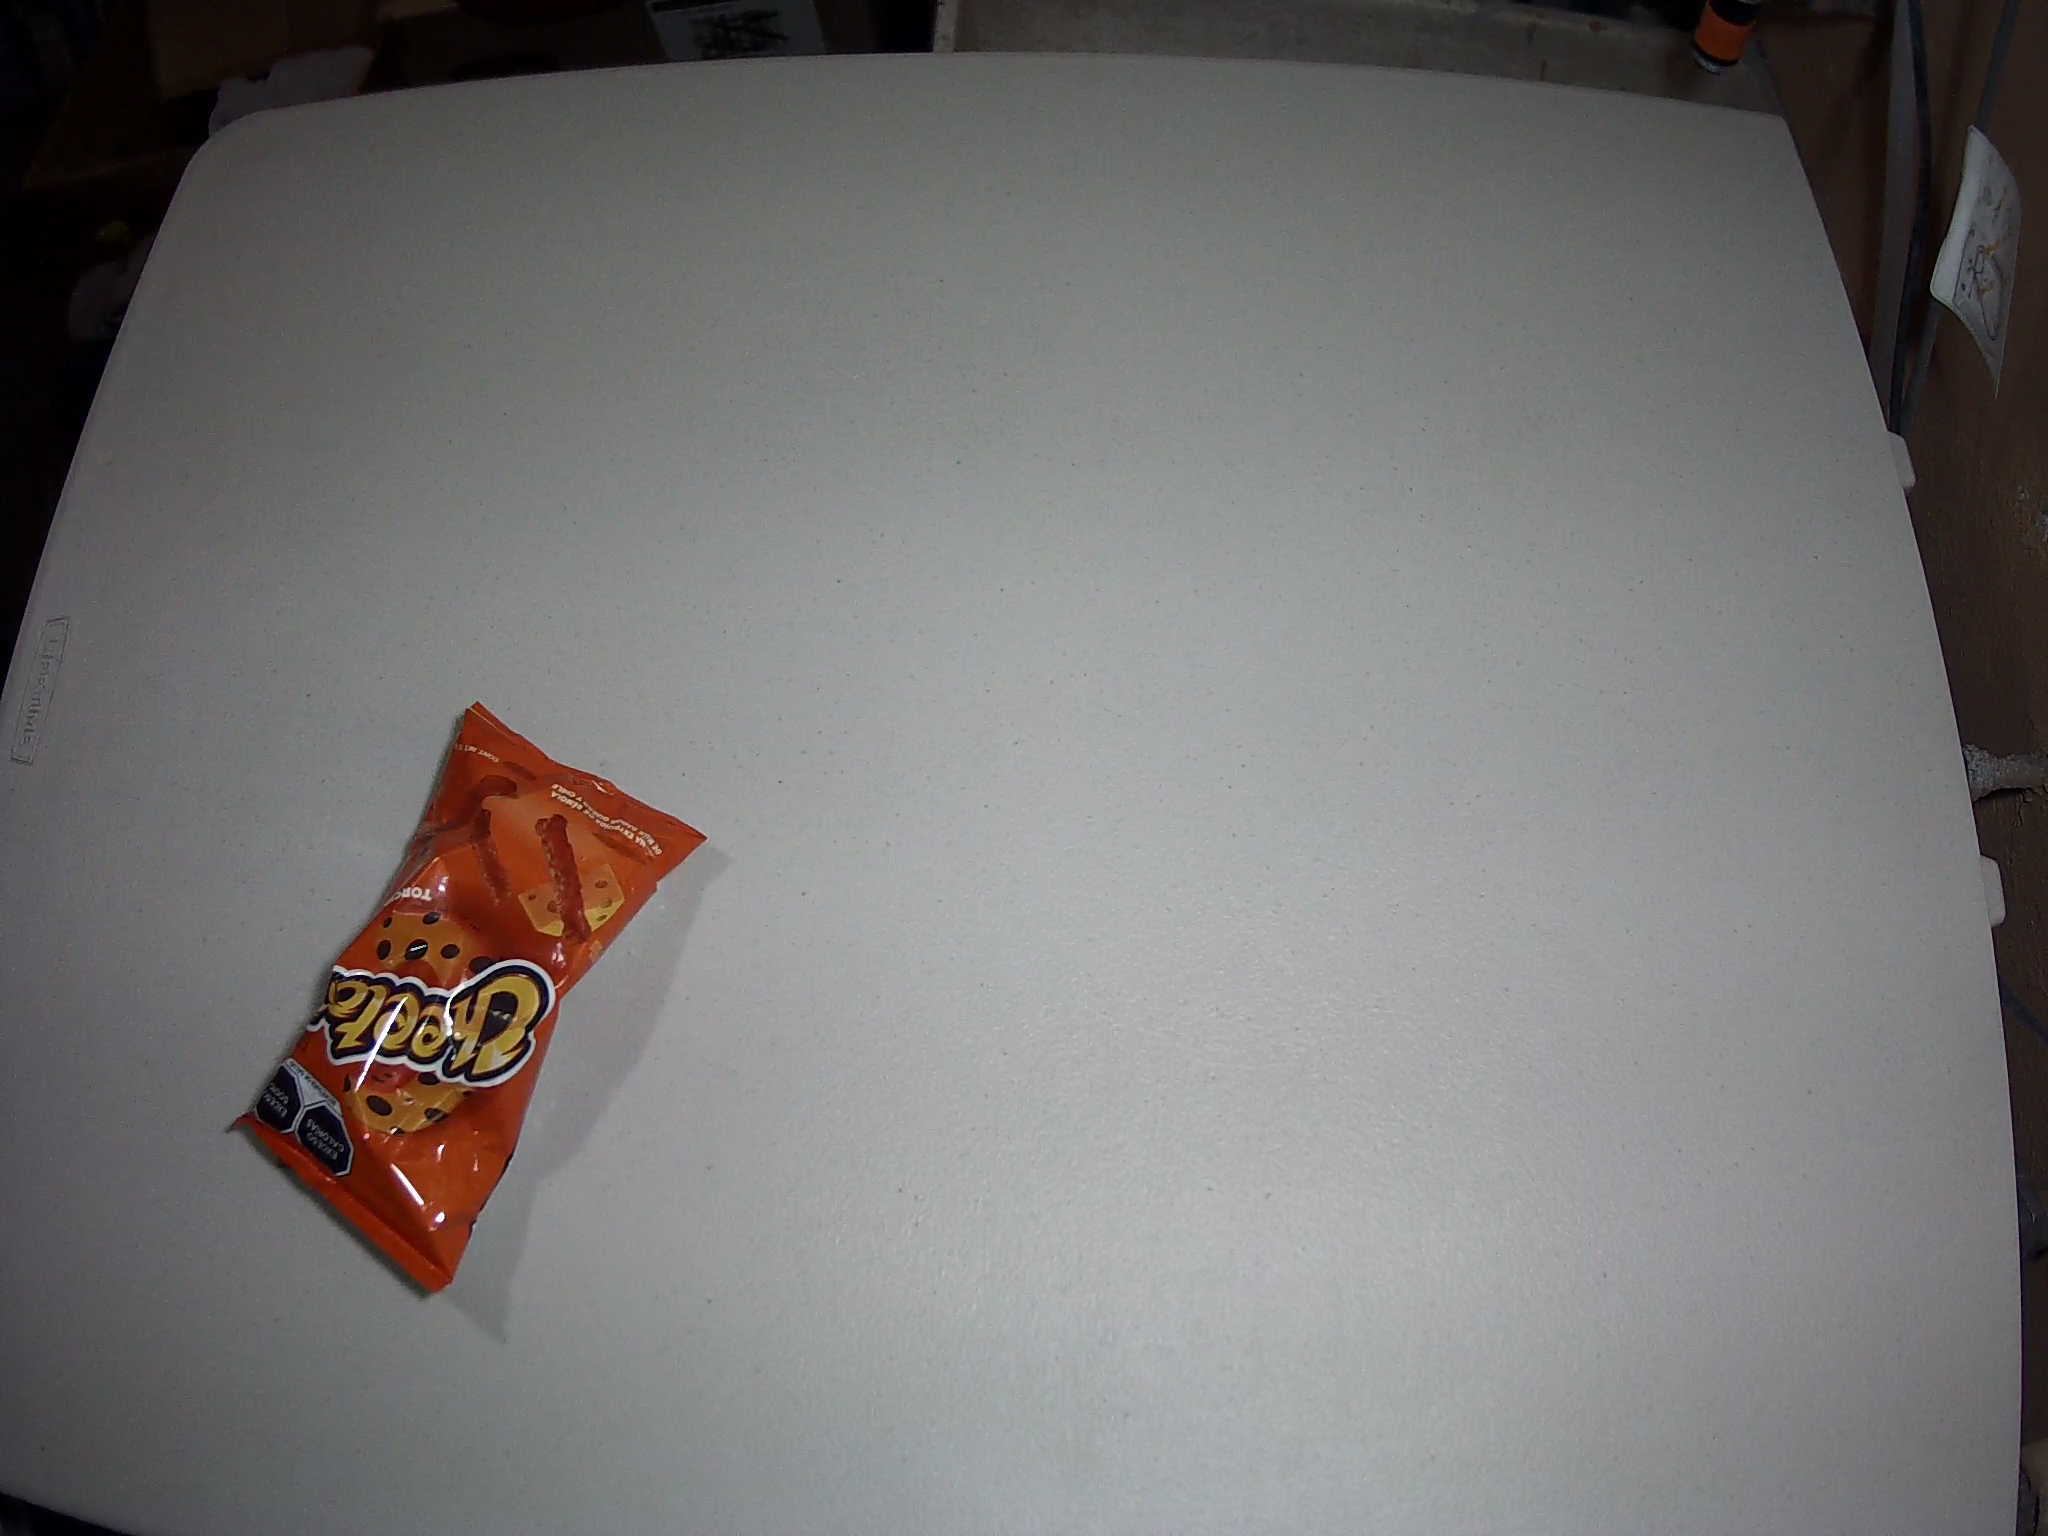CheetosTorciditos_55_F: (226, 702, 708, 1296)
